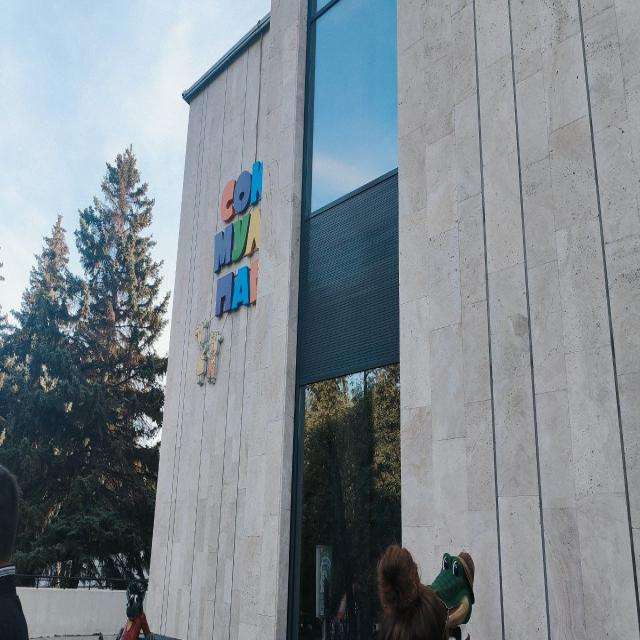gena: (430, 549, 480, 639)
volk: (112, 579, 160, 639)
